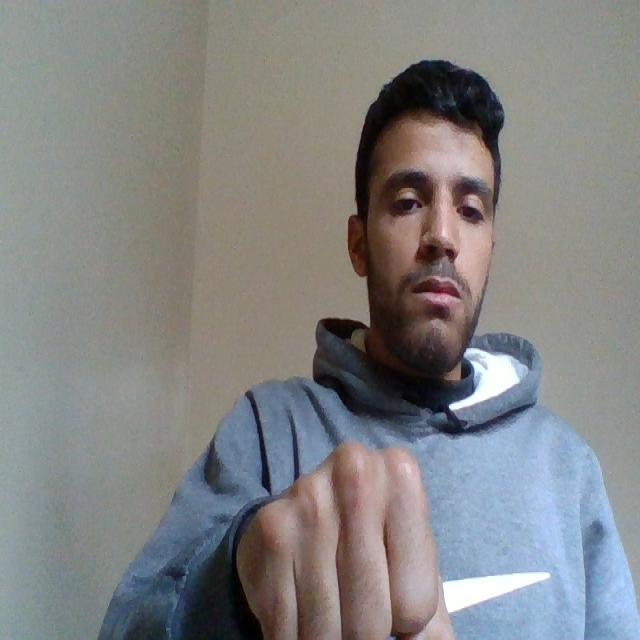No: (233, 413, 456, 639)
